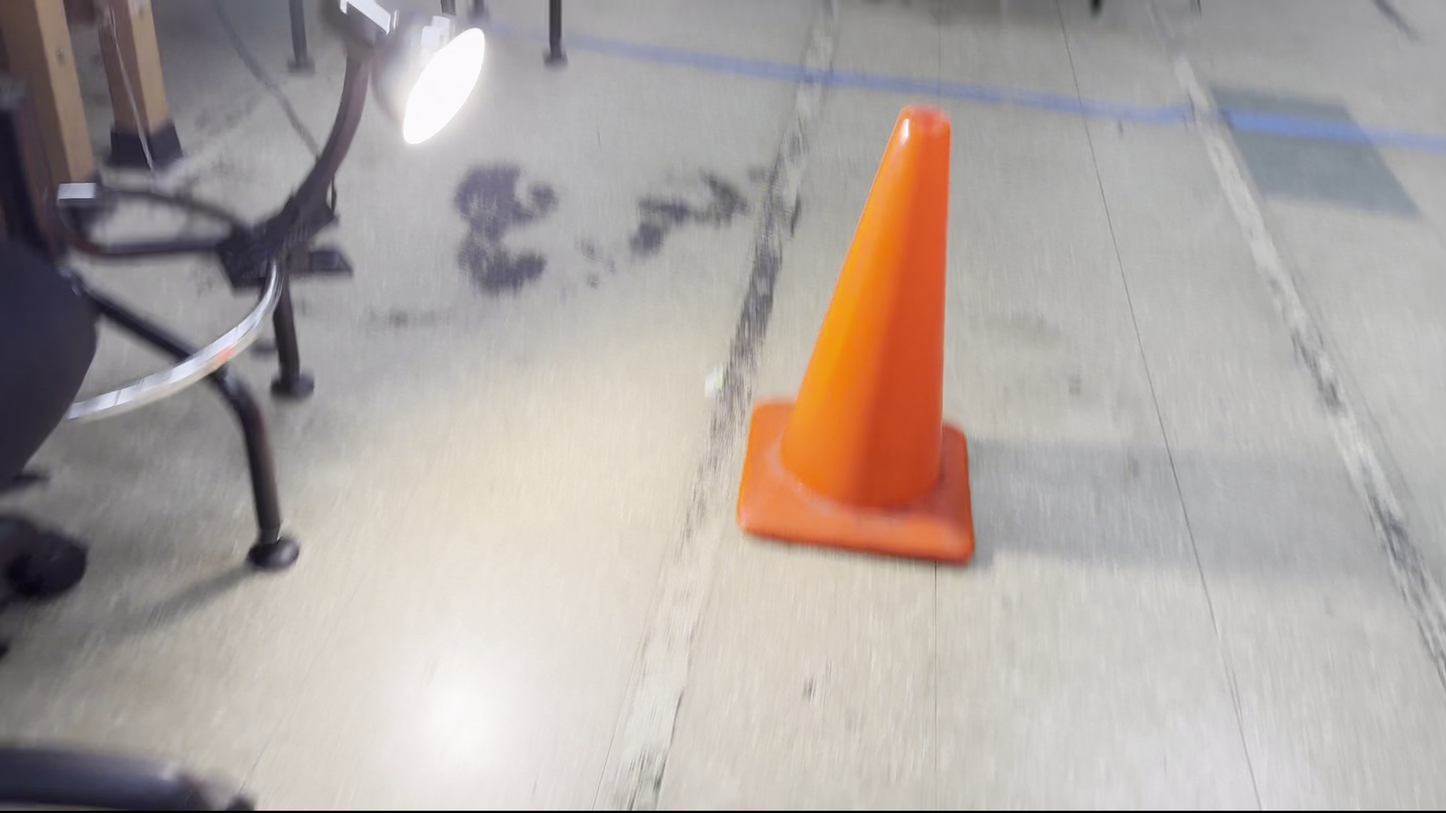traffic_cone: (735, 102, 976, 565)
